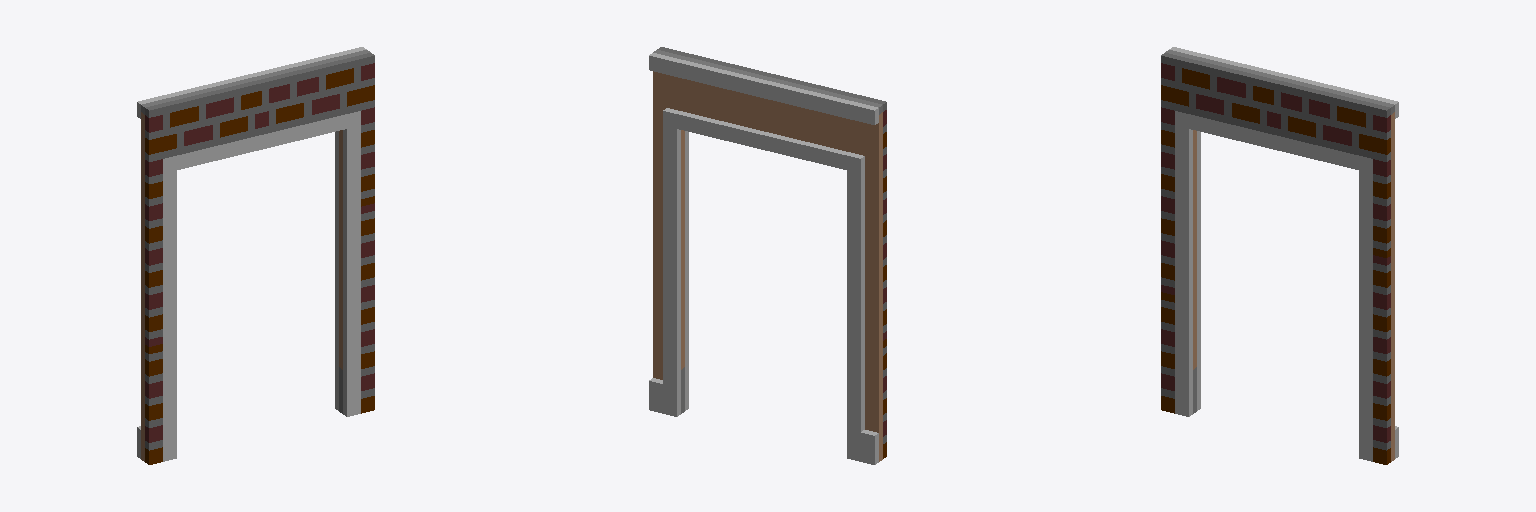
The picture shows the model from 3 angles: view 1: azimuth 30°, elevation 25°; view 2: azimuth 150°, elevation 25°; view 3: azimuth 330°, elevation 25°; orthographic projection.
Visible parts, largest first — view 1: object 1; view 2: object 1; view 3: object 1.
Part boxes in pixels (x1,y1,x2,y2): object 1: (137,47,374,464); object 1: (649,47,886,464); object 1: (1161,47,1398,464).
Size of the model in its own units: 3.2 by 4.8 by 0.3.
Materials: 1 (1 with a texture image).